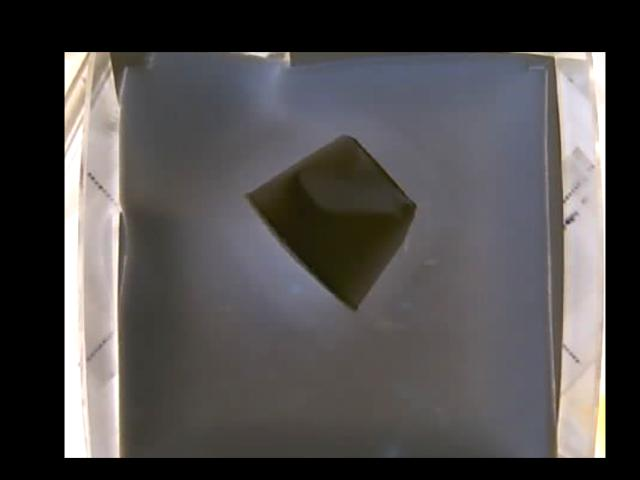Cup: (243, 133, 415, 313)
